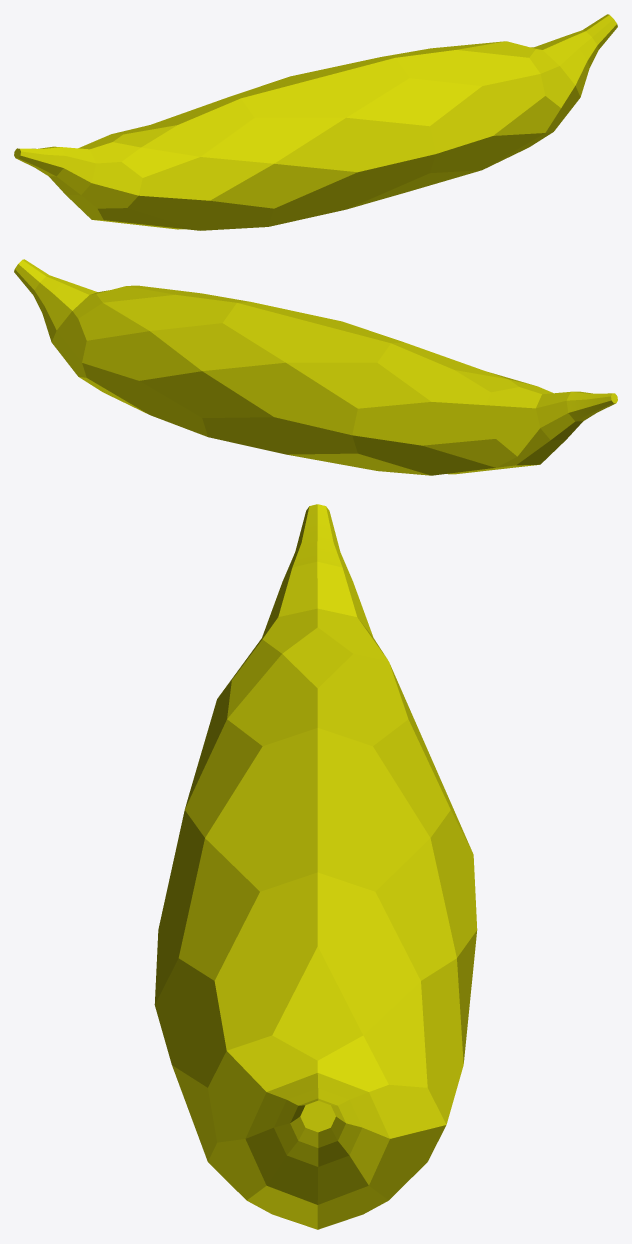
The model's file is banana.fbx.
The picture shows the model from 3 angles, top to bottom: view 1: azimuth 30°, elevation 25°; view 2: azimuth 150°, elevation 25°; view 3: azimuth 270°, elevation 25°; orthographic projection. The views are drawn at different scales.
Parts seen in each view (by area): view 1: banana; view 2: banana; view 3: banana.
Part boxes in pixels (<box>): banana: <box>14,14,617,230</box>; banana: <box>14,259,617,475</box>; banana: <box>154,504,477,1229</box>.
Size of the model in its own units: 13.78 by 2.9 by 3.21.
